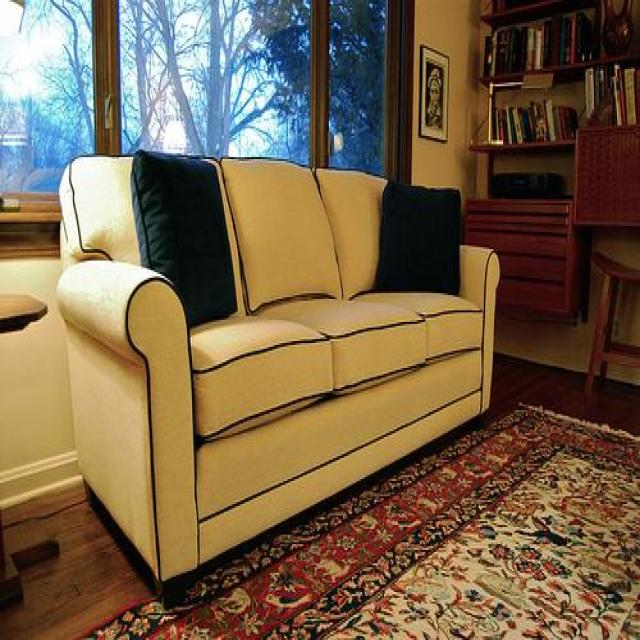sofa: (56, 146, 502, 596)
